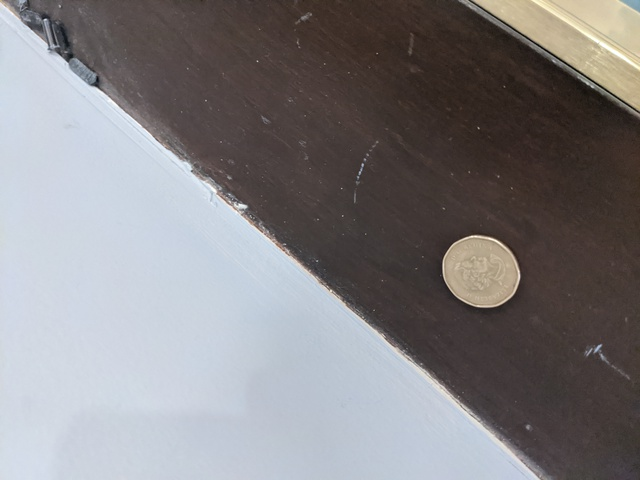loonie: (438, 228, 524, 312)
